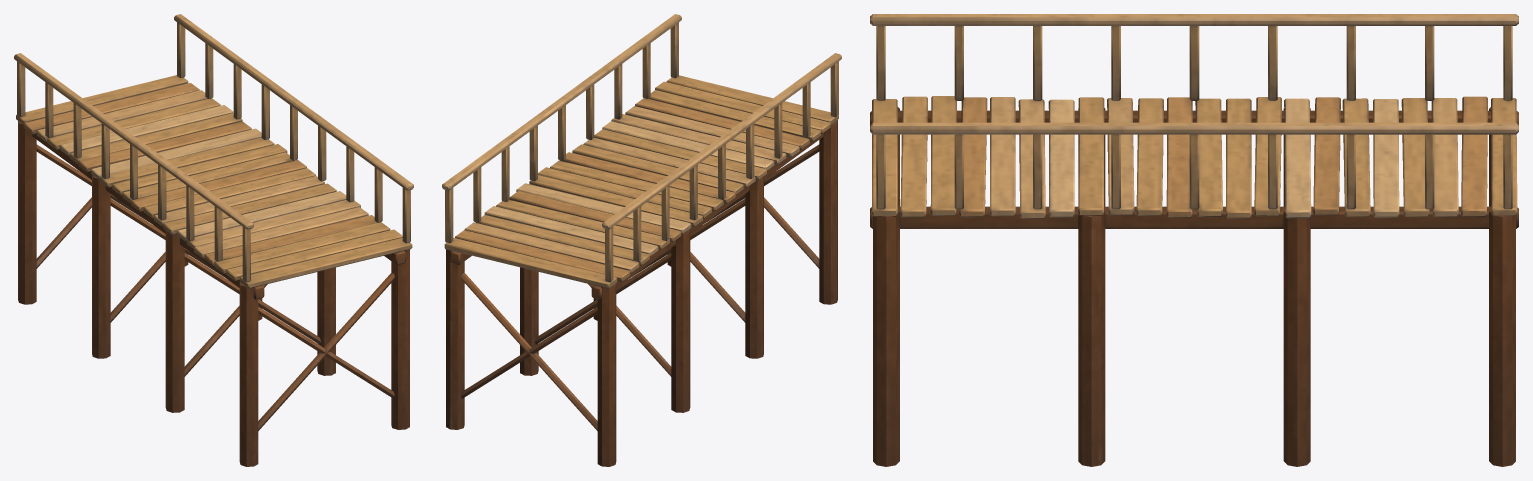
The model's file is Stage_Ocean_Pier.glb.
3 views of the same model, side by side, from view 1: azimuth 30°, elevation 25°; view 2: azimuth 150°, elevation 25°; view 3: azimuth 270°, elevation 25° (orthographic). The views are drawn at different scales.
Visible parts, largest first — view 1: Stage_Ocean_Pier; view 2: Stage_Ocean_Pier; view 3: Stage_Ocean_Pier.
Part boxes in pixels (x1=…): Stage_Ocean_Pier: x1=14, y1=14, x2=413, y2=466; Stage_Ocean_Pier: x1=442, y1=14, x2=841, y2=466; Stage_Ocean_Pier: x1=870, y1=14, x2=1518, y2=466.
Size of the model in its own units: 10.12 by 13.88 by 24.
1 material, 1 textured.
